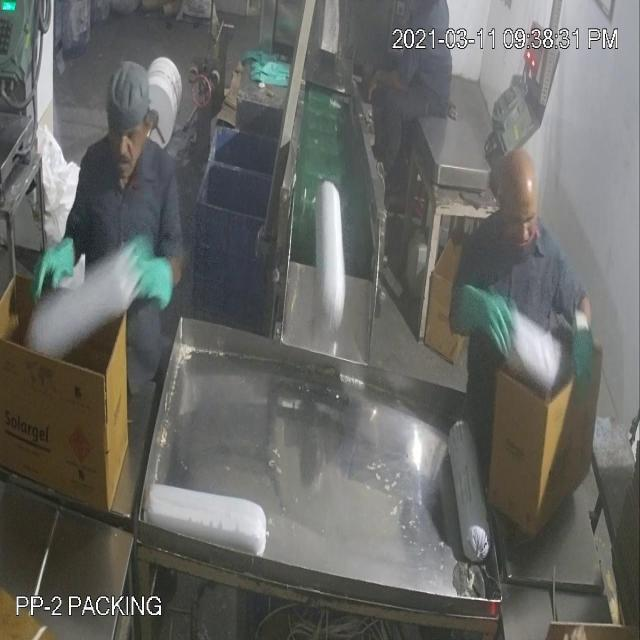Gloves: (47, 100, 577, 364)
